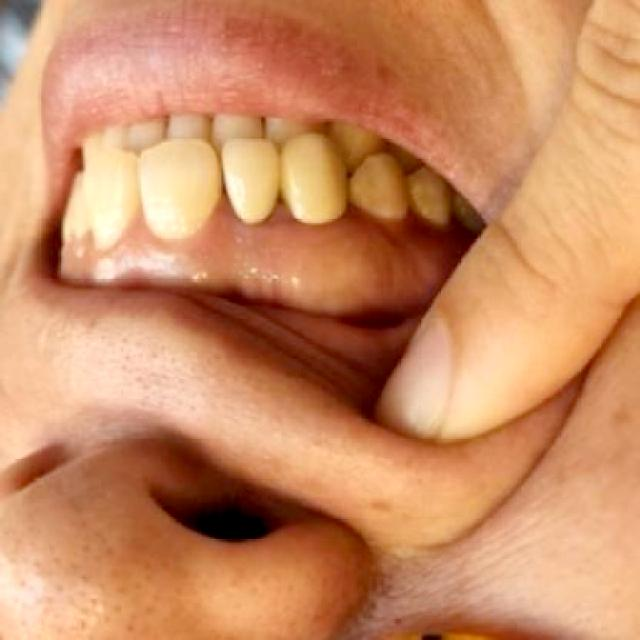Plaque: (285, 200, 348, 225), (224, 199, 266, 226)
